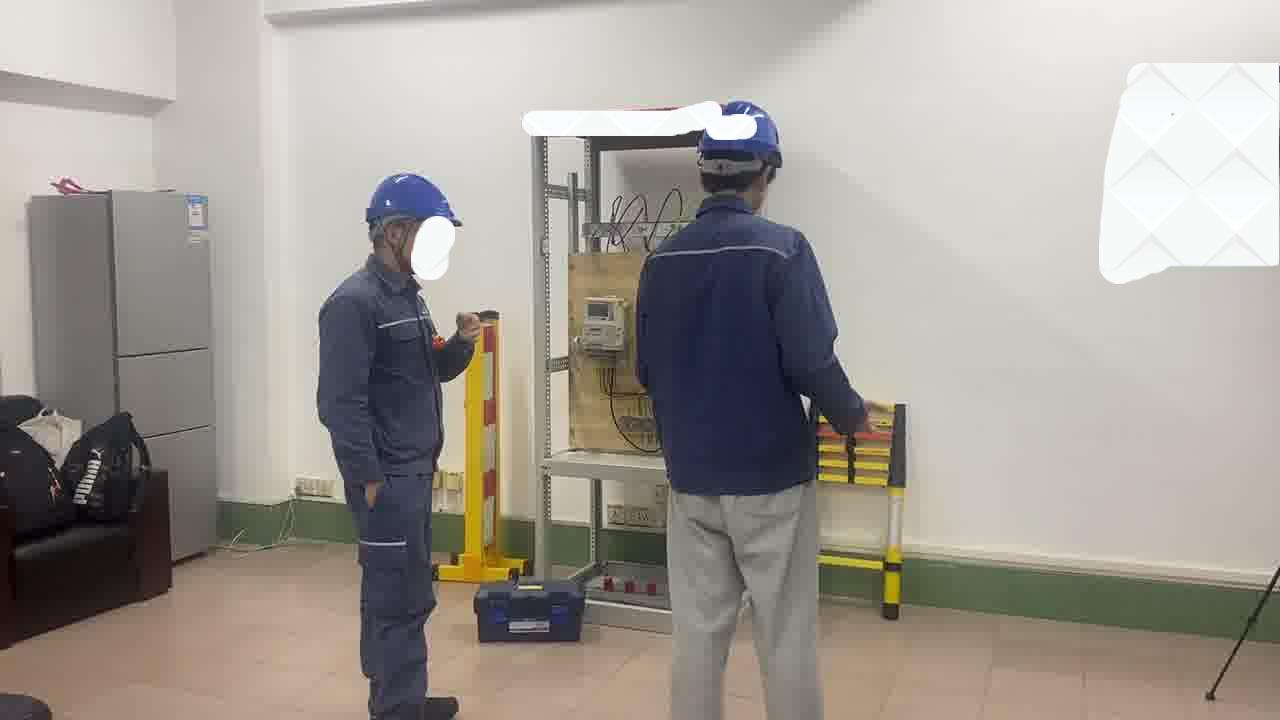halt: (365, 176, 464, 277), (697, 100, 786, 206)
inear: (380, 218, 417, 260)
